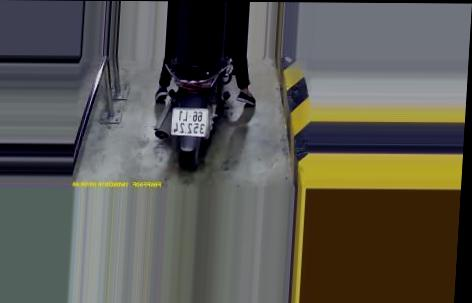License_Plate: (167, 103, 213, 139)
